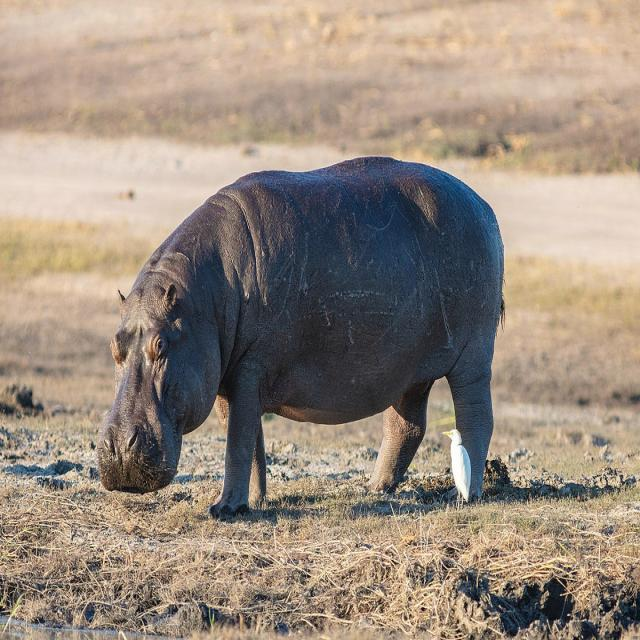hippopotamus: (99, 157, 505, 517)
